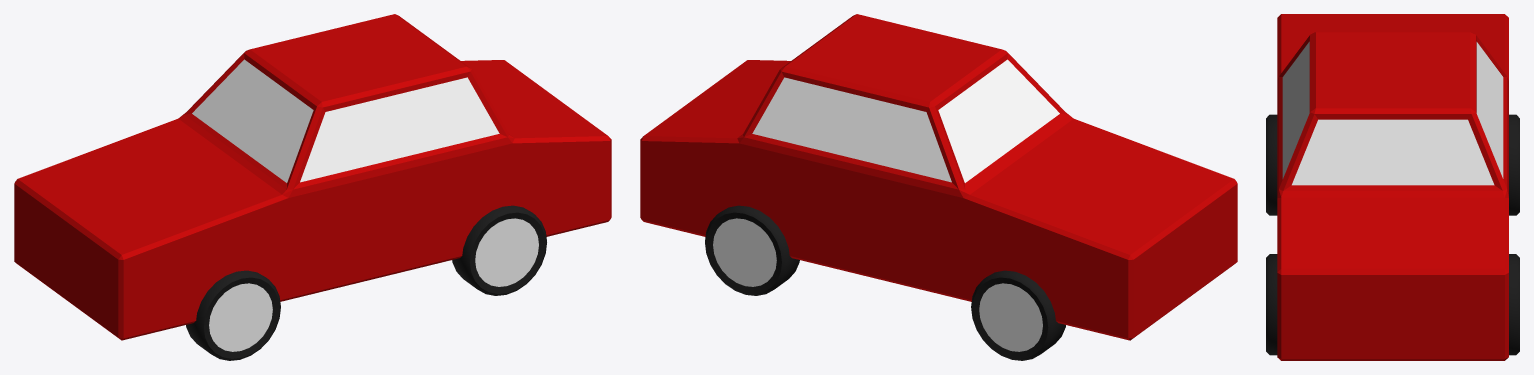
Rendered from car.FBX.
The picture shows the model from 3 angles, left to right: view 1: azimuth 30°, elevation 25°; view 2: azimuth 150°, elevation 25°; view 3: azimuth 270°, elevation 25°; orthographic projection. The views are drawn at different scales.
Parts seen in each view (by area): view 1: Box001, Cylinder002, Cylinder001; view 2: Box001, Cylinder003, Cylinder004; view 3: Box001, Cylinder001, Cylinder002, Cylinder004, Cylinder003.
Boxes of the visible parts, <box> form: Box001: <box>14,14,611,340</box>; Cylinder002: <box>452,205,546,295</box>; Cylinder001: <box>186,270,280,360</box>; Box001: <box>640,14,1237,340</box>; Cylinder003: <box>705,205,799,295</box>; Cylinder004: <box>971,270,1065,360</box>; Box001: <box>1277,14,1508,360</box>; Cylinder001: <box>1266,114,1277,215</box>; Cylinder002: <box>1266,254,1277,355</box>; Cylinder004: <box>1509,114,1519,215</box>; Cylinder003: <box>1509,254,1519,355</box>.
Bounding box in the file's own units: 48.18 × 20.26 × 20.
